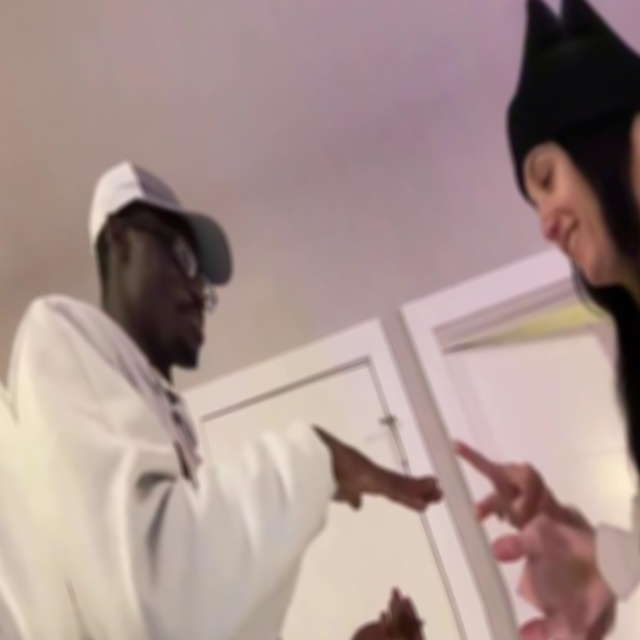Paper: (311, 394, 447, 540)
Scissors: (449, 419, 557, 542)
